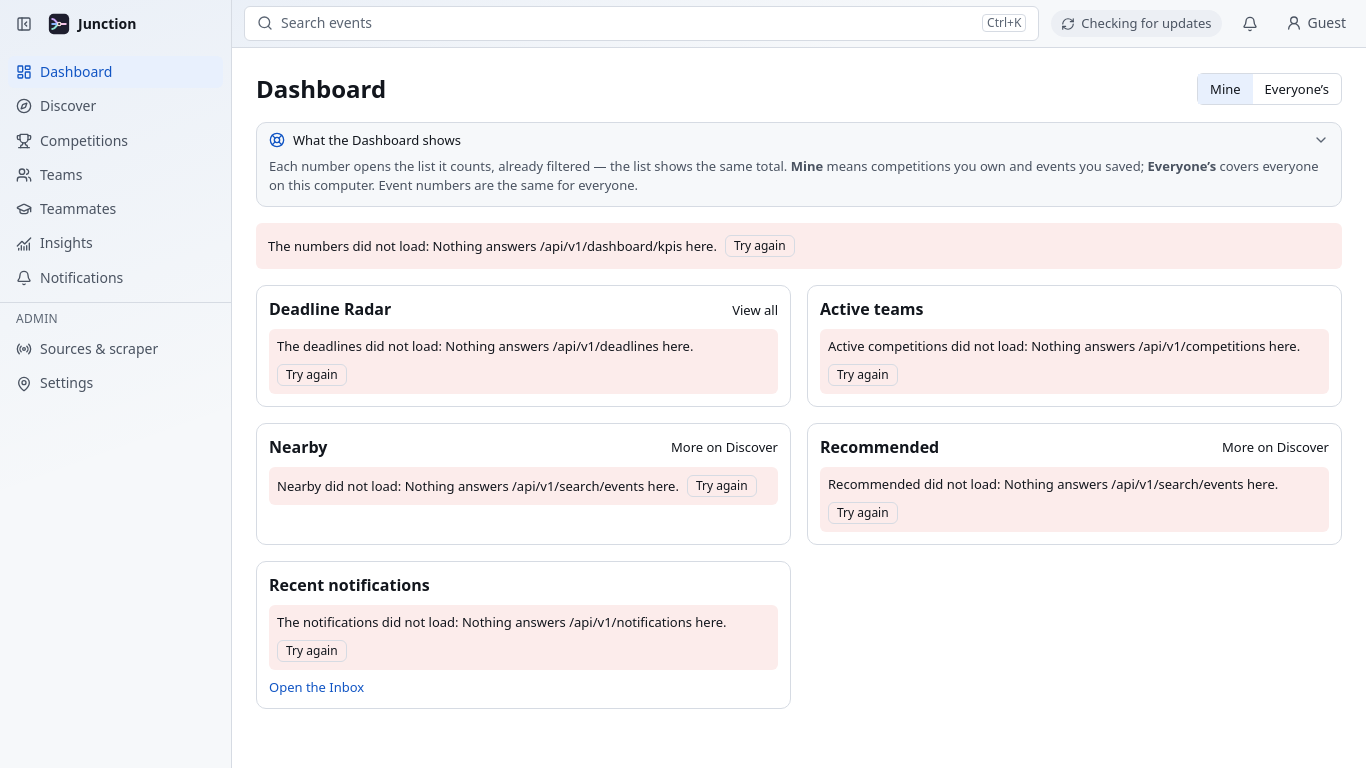
it: Myself (R133) › opens straight into the app as the guest, with Teammates and no Lock
Expected: the heading "Dashboard" is shown, [256, 72, 386, 106]
Expected: the link "Teammates" is shown, [16, 199, 116, 218]
Click the button "Guest" at (1316,23), box [1278, 7, 1354, 40]
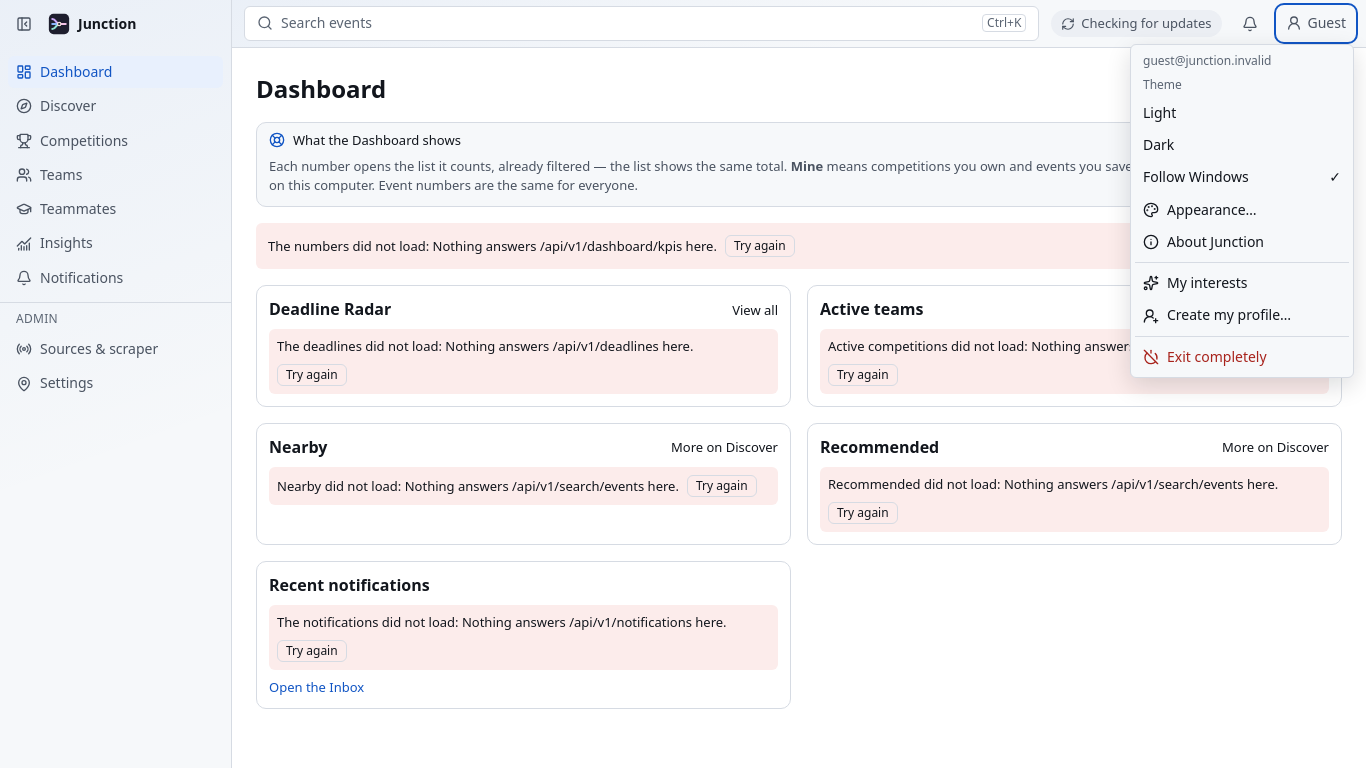
Expected: the menu item "Create my profile…" is shown, [1135, 299, 1349, 332]
